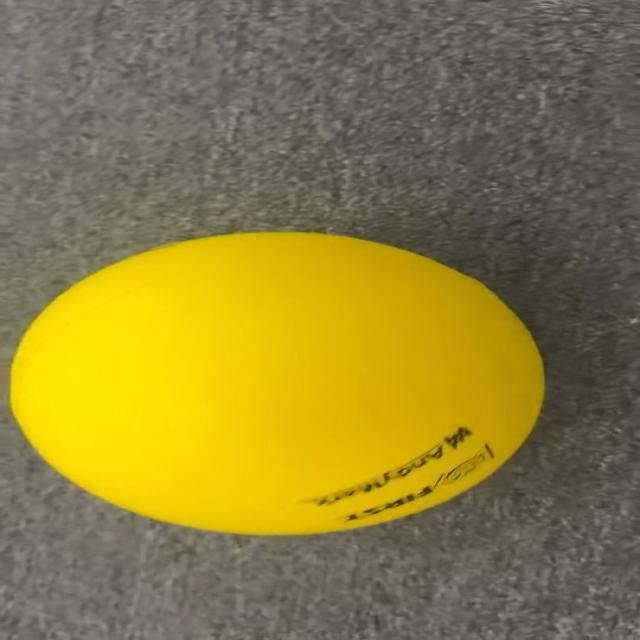Fuels: (12, 234, 545, 530)
